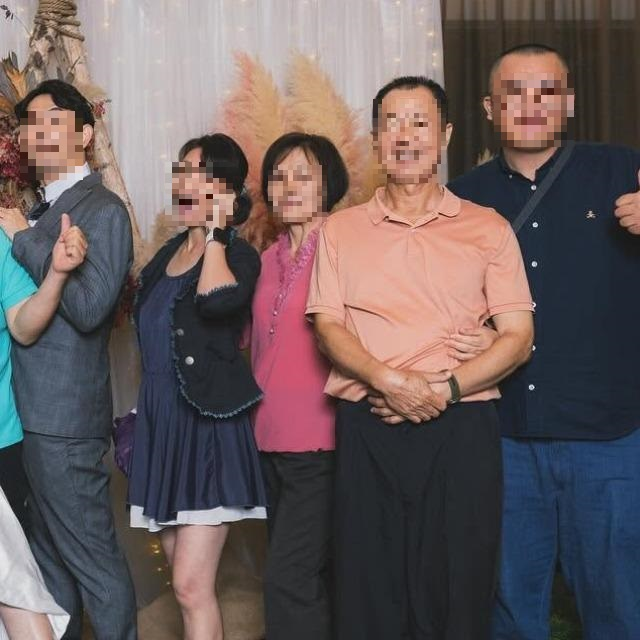NoHelmet: (481, 42, 577, 150), (368, 73, 452, 188), (260, 130, 350, 219), (17, 80, 98, 178)
NoVest: (313, 194, 527, 435)
